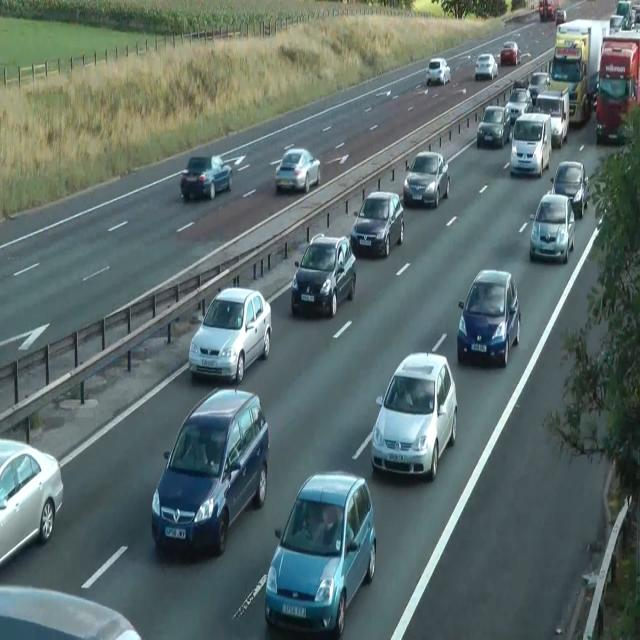bus: (370, 350, 458, 481), (188, 286, 272, 384), (0, 438, 64, 566), (0, 584, 142, 639), (456, 269, 520, 367), (290, 233, 356, 317), (350, 190, 404, 258), (403, 150, 449, 208), (180, 154, 232, 201), (549, 160, 589, 219), (274, 147, 320, 193), (476, 105, 511, 148), (504, 86, 532, 124), (528, 71, 550, 105), (426, 57, 450, 85), (474, 52, 498, 80), (500, 41, 520, 66), (609, 13, 623, 34), (616, 0, 630, 20), (630, 2, 640, 28), (512, 78, 528, 92), (554, 8, 566, 26)
jeep: (151, 385, 269, 556), (264, 469, 376, 636), (529, 192, 575, 263), (509, 111, 552, 177), (535, 86, 569, 148)
minibus: (546, 18, 604, 124), (595, 35, 639, 145), (538, 0, 559, 21)
